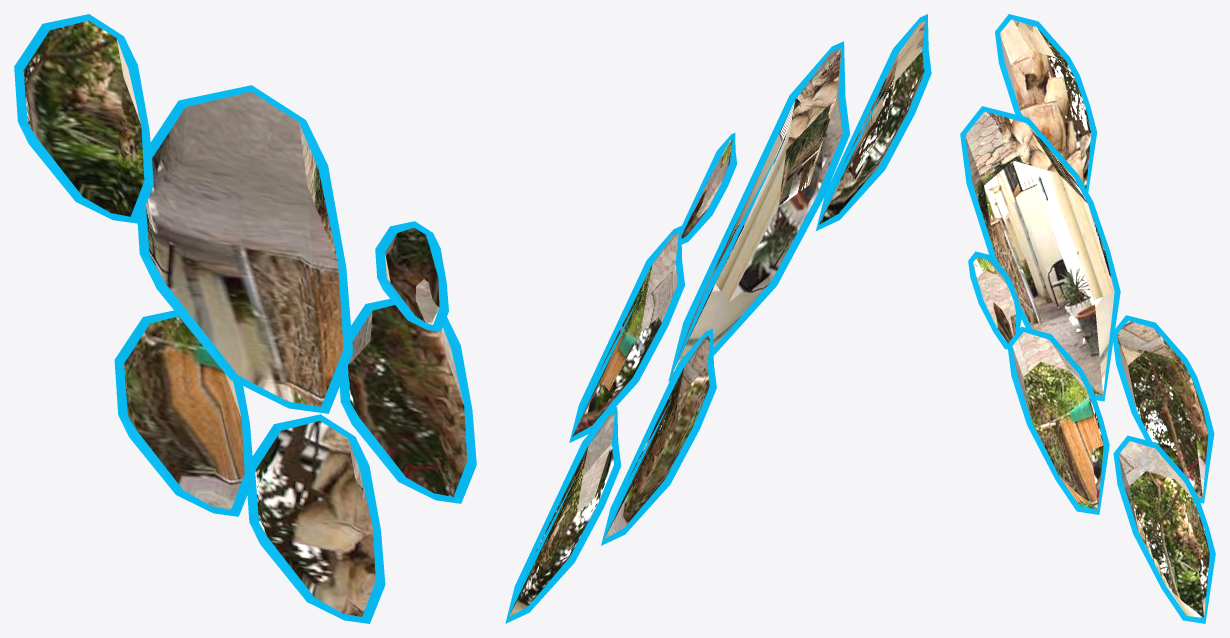
File: Alleyways_mapping_forgotten_spaces.glb
The picture shows the model from 3 angles, left to right: view 1: azimuth 30°, elevation 25°; view 2: azimuth 150°, elevation 25°; view 3: azimuth 270°, elevation 25°; orthographic projection. The views are drawn at different scales.
Parts seen in each view (by area): view 1: Dr. Khaled Alawadi.001; view 2: Dr. Khaled Alawadi.001; view 3: Dr. Khaled Alawadi.001.
Part boxes in pixels (<box>): Dr. Khaled Alawadi.001: <box>14,14,476,623</box>; Dr. Khaled Alawadi.001: <box>505,14,931,623</box>; Dr. Khaled Alawadi.001: <box>960,14,1215,623</box>.
Size of the model in its own units: 2.54 by 4.43 by 2.1.
Materials: 2 (1 with a texture image).
